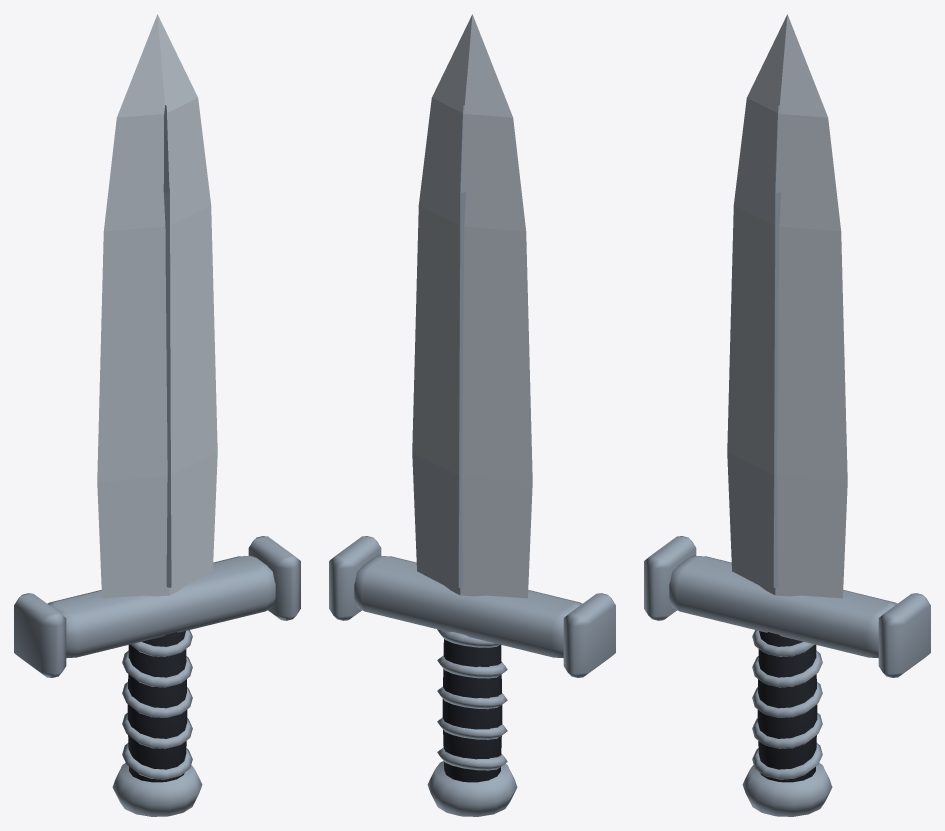
The model's file is Tool_T5.fbx.
The picture shows the model from 3 angles, left to right: view 1: azimuth 30°, elevation 25°; view 2: azimuth 150°, elevation 25°; view 3: azimuth 330°, elevation 25°; orthographic projection.
Visible parts, largest first — view 1: ToolT5Blade, ToolT5Head, ToolT5Handle; view 2: ToolT5Blade, ToolT5Head, ToolT5Handle; view 3: ToolT5Blade, ToolT5Head, ToolT5Handle.
Boxes of the visible parts, x1,y1,x2,y2 form: ToolT5Blade: [97, 14, 217, 598]; ToolT5Head: [14, 536, 300, 677]; ToolT5Handle: [112, 630, 202, 816]; ToolT5Blade: [412, 14, 532, 598]; ToolT5Head: [329, 536, 615, 677]; ToolT5Handle: [427, 629, 517, 816]; ToolT5Blade: [727, 14, 847, 598]; ToolT5Head: [644, 536, 930, 677]; ToolT5Handle: [742, 630, 832, 816].
Bounding box in the file's own units: 160 × 462 × 46.8.
